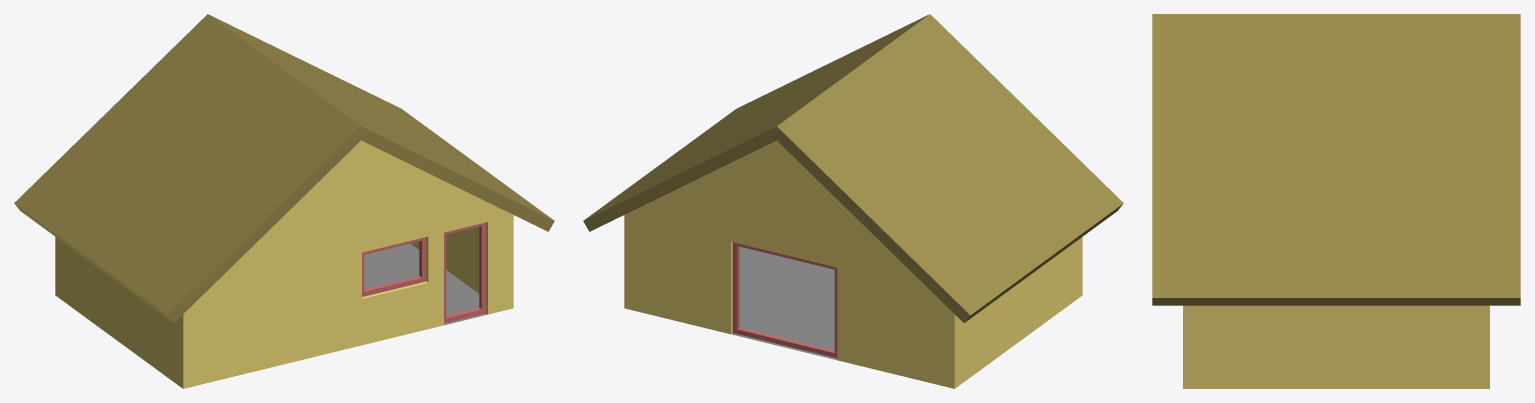
File: result.glb
3 views of the same model, side by side, from view 1: azimuth 30°, elevation 25°; view 2: azimuth 150°, elevation 25°; view 3: azimuth 270°, elevation 25° (orthographic). The views are drawn at different scales.
Visible parts, largest first — view 1: 32c7a255-0910-4901-85b5-2867fb80876c__undefined (×2), 45d8be82-387f-460d-8578-6e6bfa432570__undefined, 0393a0f8-c895-4578-87f9-cadd03450fc3__Plane_6, be08cb98-e4be-42b1-92ed-4cb3babd764e__Box, 1acde8a1-dfad-40fe-9ebc-80743a13da32__Box_3; view 2: 32c7a255-0910-4901-85b5-2867fb80876c__undefined (×2), 45d8be82-387f-460d-8578-6e6bfa432570__undefined, 0393a0f8-c895-4578-87f9-cadd03450fc3__Plane_6, 6cb907d6-7018-404e-9547-3d61a736abc6__Box_9; view 3: 32c7a255-0910-4901-85b5-2867fb80876c__undefined, 45d8be82-387f-460d-8578-6e6bfa432570__undefined.
Boxes of the visible parts, x1,y1,x2,y2 form: 32c7a255-0910-4901-85b5-2867fb80876c__undefined (×2): (14,14,554,323); 45d8be82-387f-460d-8578-6e6bfa432570__undefined: (55,140,513,388); 0393a0f8-c895-4578-87f9-cadd03450fc3__Plane_6: (364,243,487,325); be08cb98-e4be-42b1-92ed-4cb3babd764e__Box: (444,222,486,323); 1acde8a1-dfad-40fe-9ebc-80743a13da32__Box_3: (362,237,426,296); 32c7a255-0910-4901-85b5-2867fb80876c__undefined (×2): (583,14,1123,323); 45d8be82-387f-460d-8578-6e6bfa432570__undefined: (624,140,1082,388); 0393a0f8-c895-4578-87f9-cadd03450fc3__Plane_6: (731,246,837,359); 6cb907d6-7018-404e-9547-3d61a736abc6__Box_9: (732,242,837,358); 32c7a255-0910-4901-85b5-2867fb80876c__undefined: (1152,14,1520,305); 45d8be82-387f-460d-8578-6e6bfa432570__undefined: (1183,305,1489,388).
Bounding box in the file's own units: 875 × 500 × 600.
